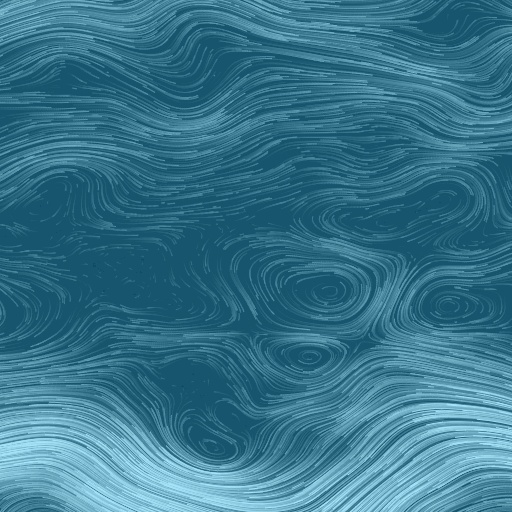eddy: (317, 168, 494, 250), (260, 253, 387, 329), (408, 277, 498, 333), (267, 336, 348, 380), (177, 411, 239, 467)
